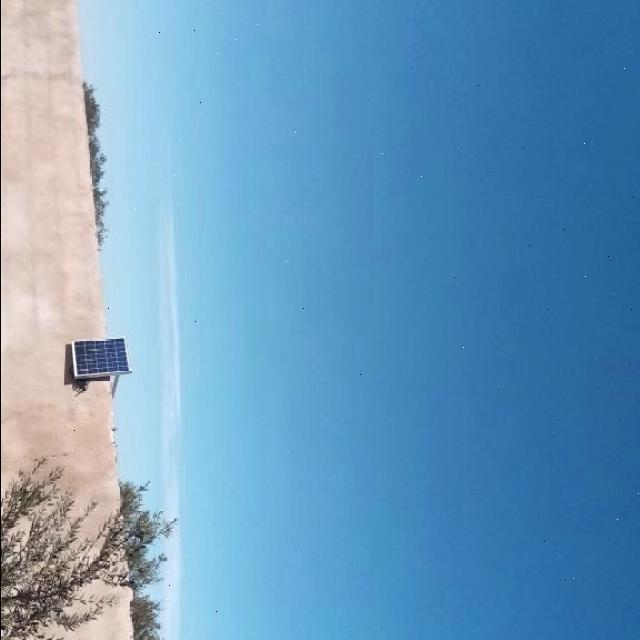Normal Solar Panel: (71, 336, 130, 376)
